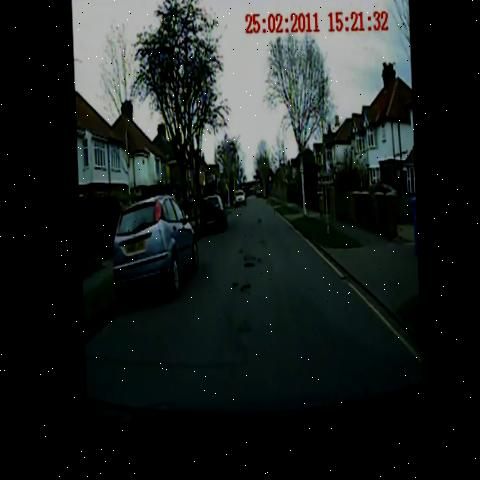pothole: (231, 239, 266, 271), (228, 271, 252, 301), (231, 314, 254, 341), (253, 214, 265, 231)
